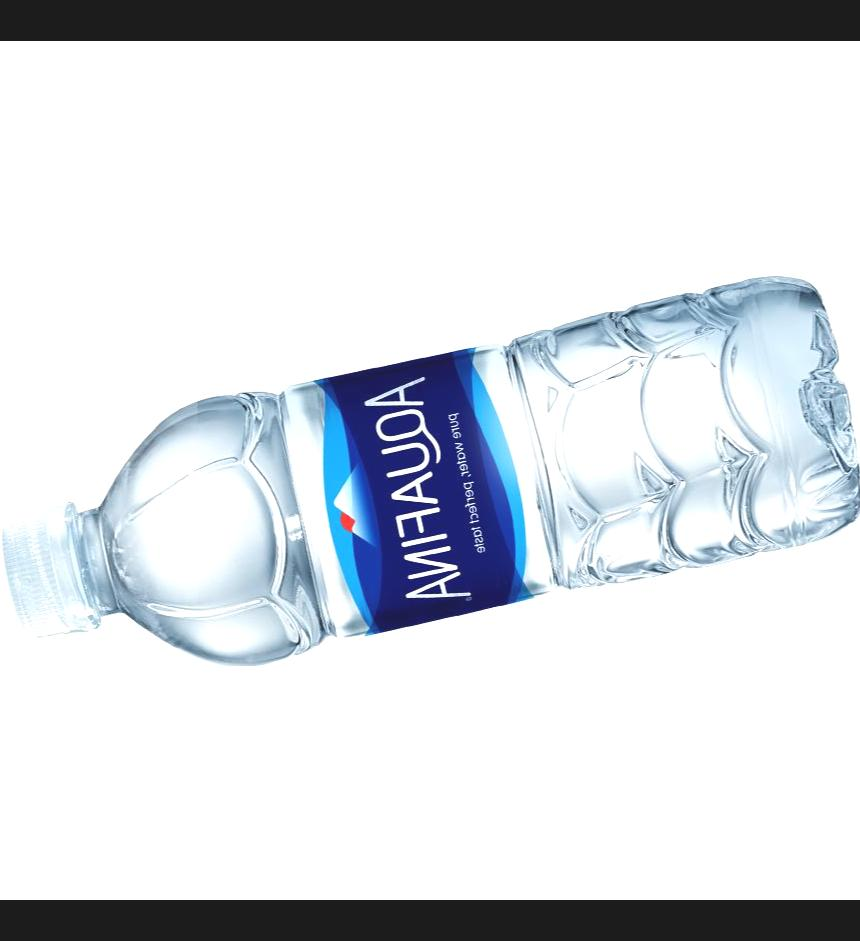bottle: (0, 268, 860, 670)
